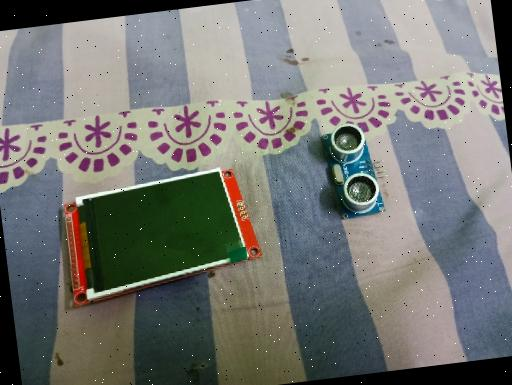Display: (59, 163, 266, 307)
sensor: (320, 118, 394, 221)
